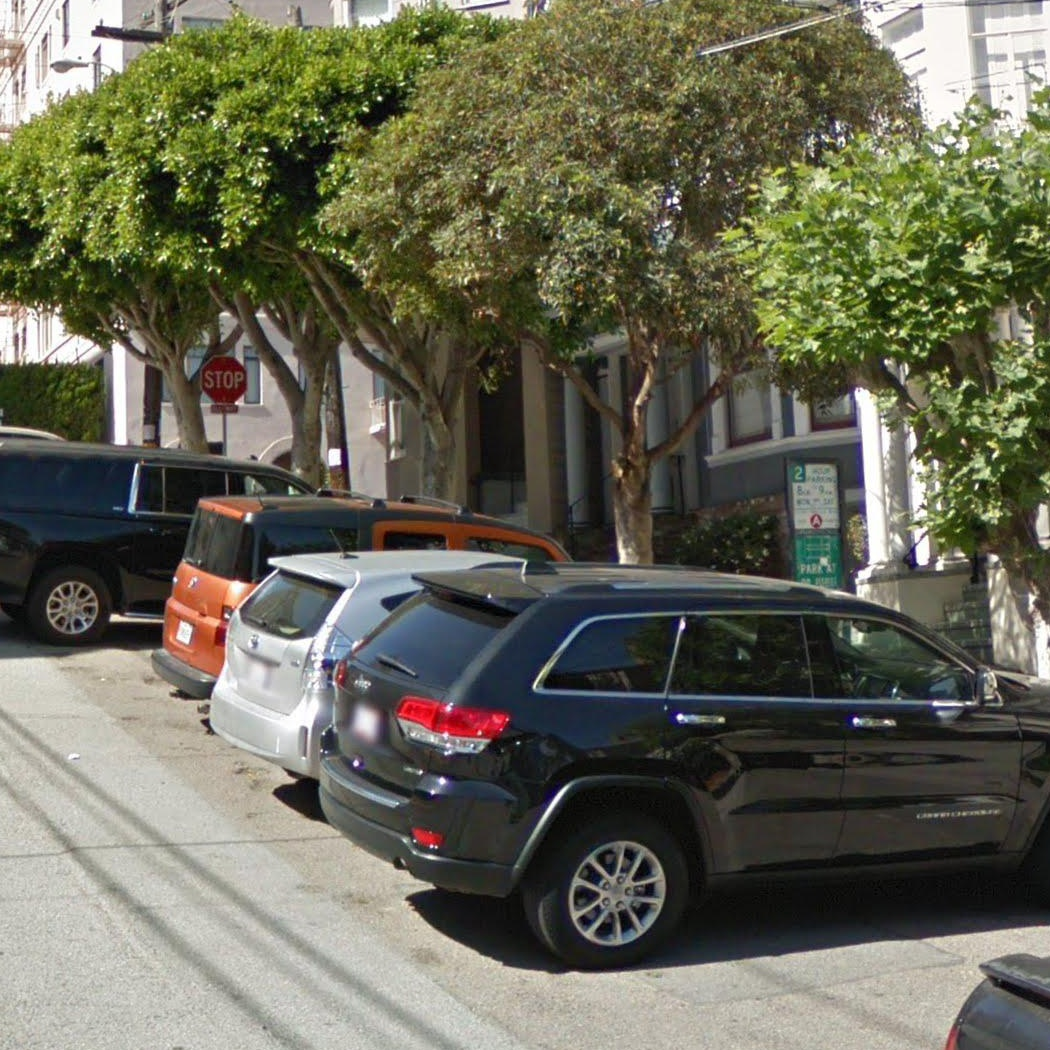2 Hour Parking: (784, 458, 842, 534)
